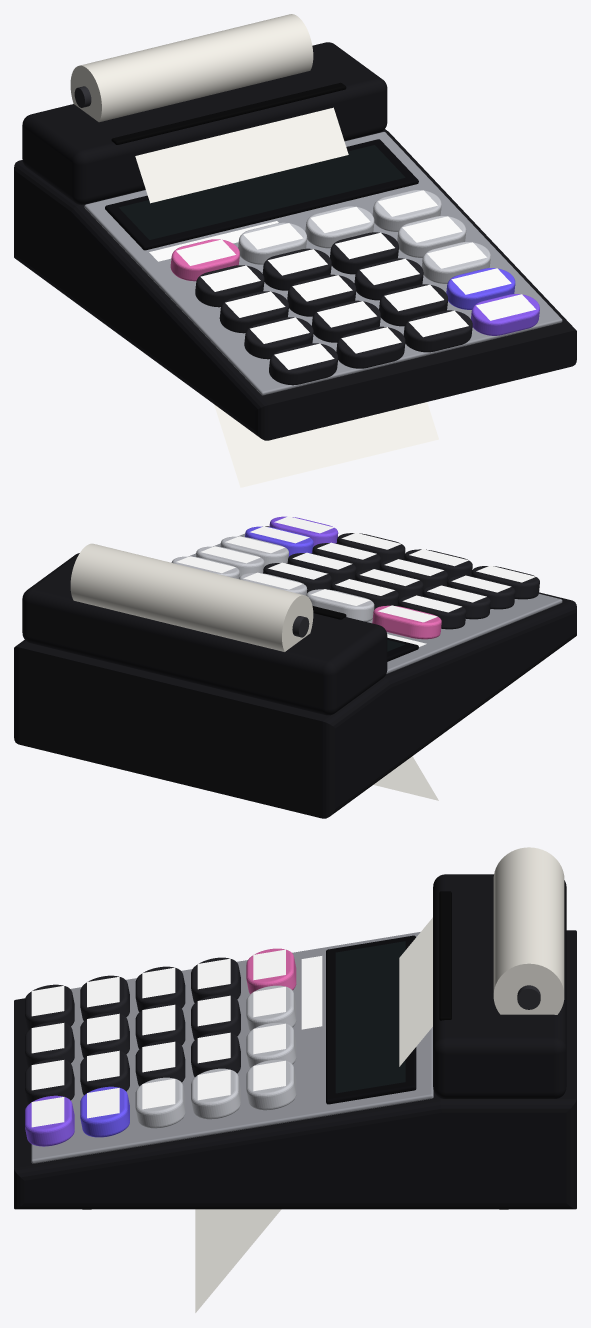
The model's file is calculator.glb.
3 renders of one model, top to bottom at view 1: azimuth 30°, elevation 25°; view 2: azimuth 150°, elevation 25°; view 3: azimuth 270°, elevation 25°, orthographic. The views are drawn at different scales.
Visible parts, largest first — view 1: Body, PrinterHousing, Paper, PaperRoll, Plate, Display, DisplayBezel, PaperSlot, KeyCap_0, KeyCap_00, KeyCap_dot, KeyCap_EMI (+37 smaller); view 2: Body, PrinterHousing, PaperRoll, Plate, KeyCap_AC, Paper, KeyCap_pct, KeyCap_7, KeyCap_0, KeyCap_4, KeyCap_1, KeyCap_5 (+31 smaller); view 3: Body, PrinterHousing, Plate, PaperRoll, Display, Paper, DisplayBezel, PaperSlot, Brand, KeyCap_mul, KeyCap_plus, KeyCap_minus (+37 smaller).
Boxes of the visible parts, box(x1,y1,x2,y2) form: Body: box(14, 129, 576, 440); PrinterHousing: box(22, 42, 387, 204); Paper: box(135, 107, 438, 487); PaperRoll: box(70, 14, 313, 122); Plate: box(84, 132, 562, 395); Display: box(119, 145, 405, 239); DisplayBezel: box(105, 139, 418, 250); PaperSlot: box(111, 82, 346, 144); KeyCap_0: box(269, 343, 338, 385); KeyCap_00: box(336, 326, 405, 368); KeyCap_dot: box(403, 310, 472, 352); KeyCap_EMI: box(471, 294, 539, 335); Body: box(14, 526, 576, 818); PrinterHousing: box(22, 553, 387, 715); PaperRoll: box(70, 543, 313, 651); Plate: box(188, 526, 562, 673); KeyCap_AC: box(372, 605, 441, 639); Paper: box(373, 756, 438, 800); KeyCap_pct: box(306, 589, 374, 621); KeyCap_7: box(397, 595, 466, 629); KeyCap_0: box(471, 566, 539, 599); KeyCap_4: box(422, 585, 490, 619); KeyCap_1: box(446, 576, 515, 609); KeyCap_5: box(355, 569, 423, 599); Body: box(14, 930, 576, 1209); PrinterHousing: box(433, 874, 566, 1098); Plate: box(31, 932, 433, 1163); PaperRoll: box(493, 847, 564, 1014); Display: box(335, 941, 405, 1093); Paper: box(195, 917, 432, 1312); DisplayBezel: box(326, 935, 416, 1104); PaperSlot: box(439, 891, 451, 1020); Brand: box(301, 956, 322, 1029); KeyCap_mul: box(246, 1059, 296, 1110); KeyCap_plus: box(135, 1077, 185, 1128); KeyCap_minus: box(191, 1068, 240, 1119).
Bounding box in the file's own units: 1 × 0.935 × 1.35.
